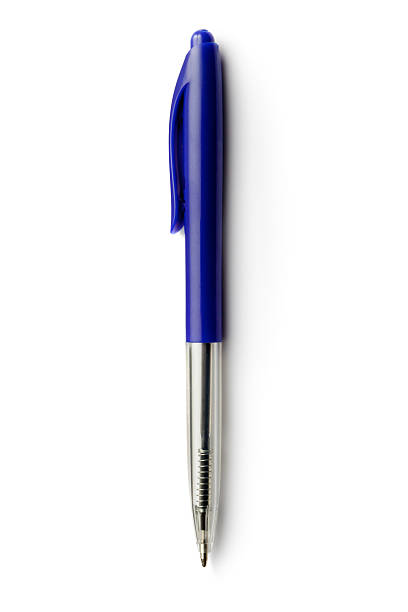pen: (154, 22, 243, 591)
